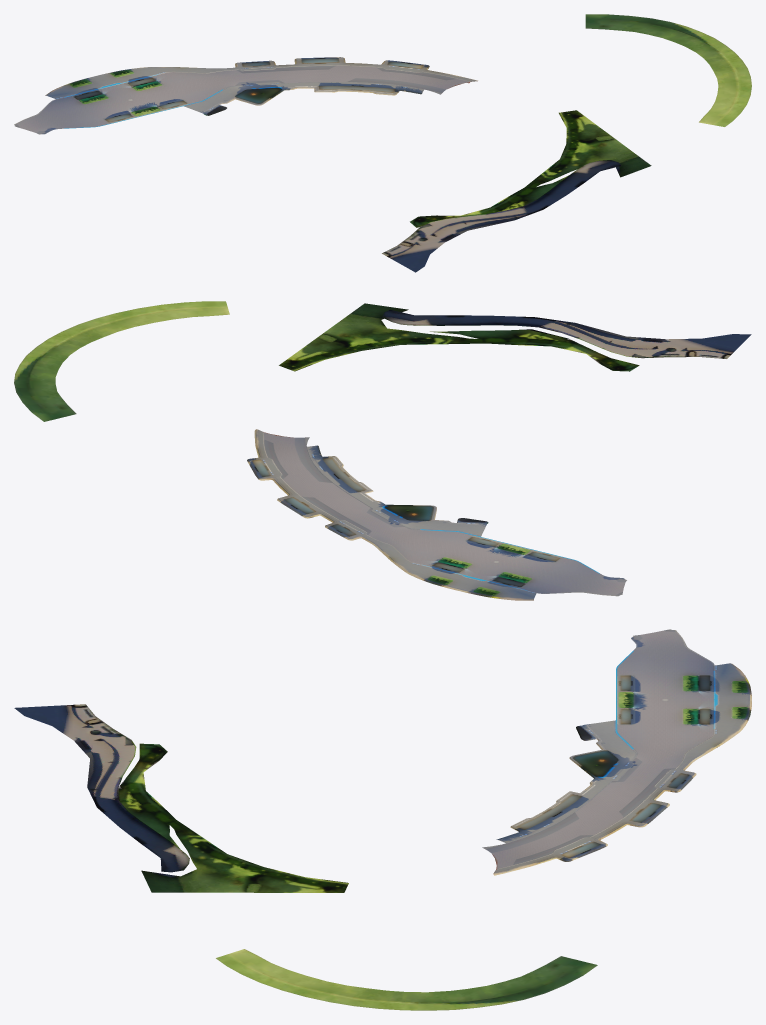
The model's file is pref_sm_beach_tech_hunt_bk_beta_Terrains_Part_06_lv1.fbx.
The picture shows the model from 3 angles, top to bottom: view 1: azimuth 30°, elevation 25°; view 2: azimuth 150°, elevation 25°; view 3: azimuth 270°, elevation 25°; orthographic projection. The views are drawn at different scales.
Parts seen in each view (by area): view 1: sm_beach_tech_hunt_bk_beta_Terrains_Part_06a_lv1, sm_beach_tech_hunt_bk_beta_Terrains_Part_06b_lv1, sm_beach_tech_hunt_bk_beta_Terrains_Part_06c_lv1, sm_beach_tech_hunt_bk_beta_Terrains_Part_06d_lv1; view 2: sm_beach_tech_hunt_bk_beta_Terrains_Part_06a_lv1, sm_beach_tech_hunt_bk_beta_Terrains_Part_06c_lv1, sm_beach_tech_hunt_bk_beta_Terrains_Part_06b_lv1, sm_beach_tech_hunt_bk_beta_Terrains_Part_06d_lv1; view 3: sm_beach_tech_hunt_bk_beta_Terrains_Part_06a_lv1, sm_beach_tech_hunt_bk_beta_Terrains_Part_06c_lv1, sm_beach_tech_hunt_bk_beta_Terrains_Part_06b_lv1, sm_beach_tech_hunt_bk_beta_Terrains_Part_06d_lv1.
Boxes of the visible parts, x1,y1,x2,y2 form: sm_beach_tech_hunt_bk_beta_Terrains_Part_06a_lv1: (14, 57, 477, 134); sm_beach_tech_hunt_bk_beta_Terrains_Part_06b_lv1: (585, 14, 751, 126); sm_beach_tech_hunt_bk_beta_Terrains_Part_06c_lv1: (410, 110, 651, 227); sm_beach_tech_hunt_bk_beta_Terrains_Part_06d_lv1: (382, 160, 621, 272); sm_beach_tech_hunt_bk_beta_Terrains_Part_06a_lv1: (247, 429, 626, 600); sm_beach_tech_hunt_bk_beta_Terrains_Part_06c_lv1: (279, 303, 639, 371); sm_beach_tech_hunt_bk_beta_Terrains_Part_06b_lv1: (14, 301, 229, 421); sm_beach_tech_hunt_bk_beta_Terrains_Part_06d_lv1: (382, 309, 751, 358); sm_beach_tech_hunt_bk_beta_Terrains_Part_06a_lv1: (482, 629, 751, 875); sm_beach_tech_hunt_bk_beta_Terrains_Part_06c_lv1: (118, 743, 348, 892); sm_beach_tech_hunt_bk_beta_Terrains_Part_06b_lv1: (216, 949, 597, 1010); sm_beach_tech_hunt_bk_beta_Terrains_Part_06d_lv1: (14, 704, 189, 872).
Bounding box in the file's own units: 131 × 1.77 × 107.
Materials: 1 (1 with a texture image).
